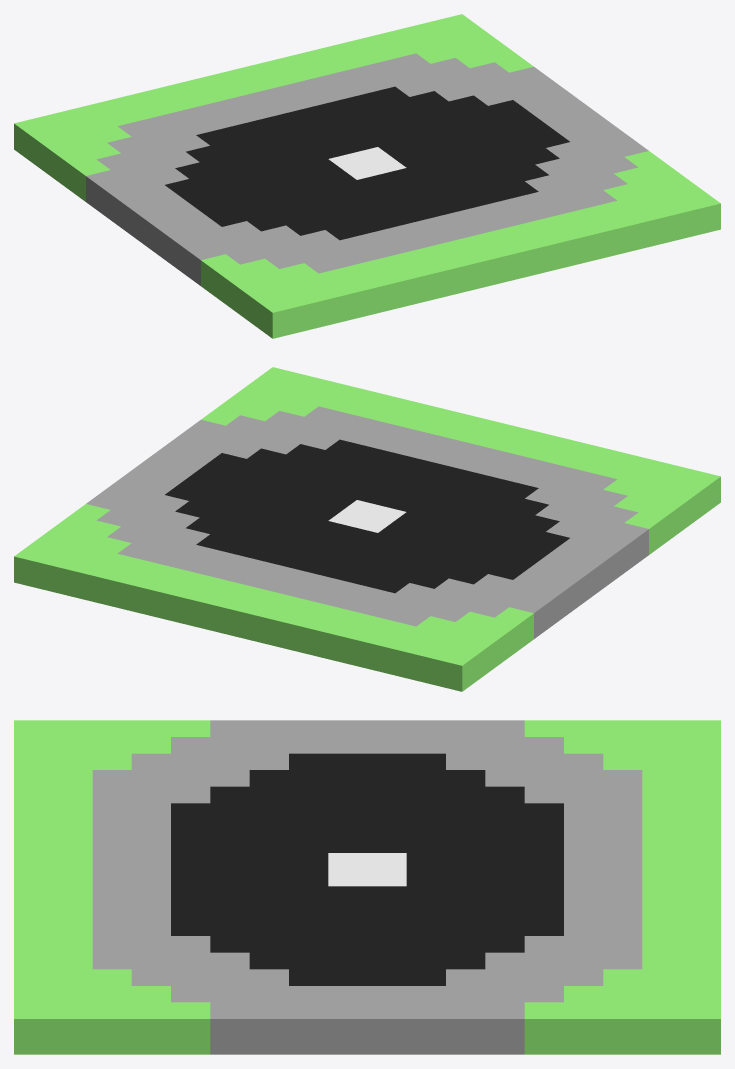
The model's file is road_0.obj.
3 renders of one model, top to bottom at view 1: azimuth 30°, elevation 25°; view 2: azimuth 150°, elevation 25°; view 3: azimuth 270°, elevation 25°, orthographic. The views are drawn at different scales.
Size of the model in its own units: 1.8 by 0.1 by 1.8.
1 material, 1 textured.
